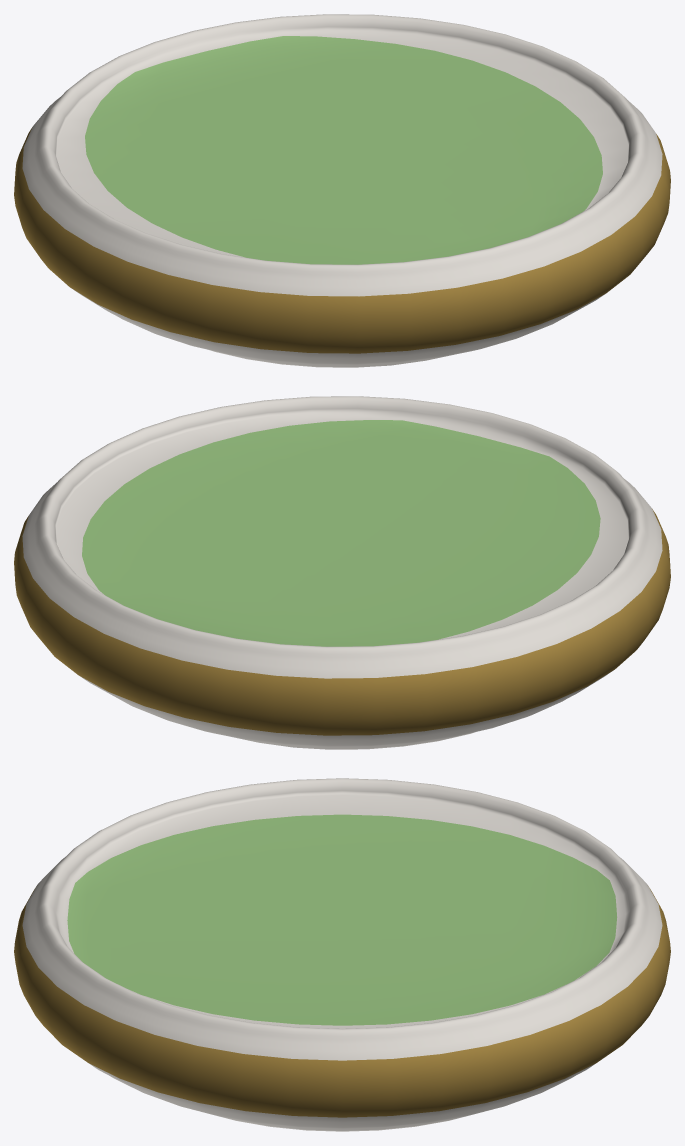
File: fly_platform4_1.fbx
3 renders of one model, top to bottom at view 1: azimuth 30°, elevation 25°; view 2: azimuth 150°, elevation 25°; view 3: azimuth 270°, elevation 25°, orthographic.
Parts seen in each view (by area): view 1: dome5c:pCylinder2; view 2: dome5c:pCylinder2; view 3: dome5c:pCylinder2.
Part boxes in pixels (x1,y1,x2,y2): dome5c:pCylinder2: (14,14,670,367); dome5c:pCylinder2: (14,396,670,749); dome5c:pCylinder2: (14,778,670,1131).
Bounding box in the file's own units: 86.4 × 29.77 × 86.4.
